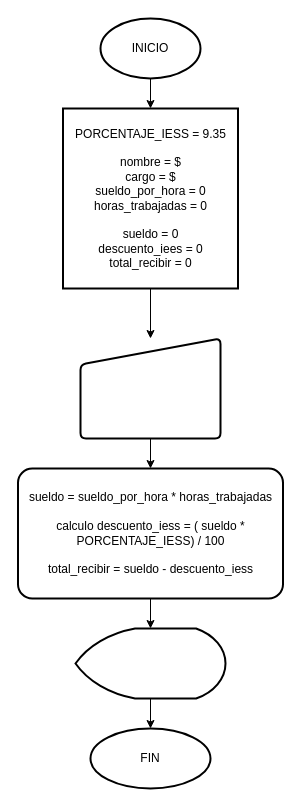
The diagram is 301 pixels wide and 806 high, and some of its shapes have lost their labels. Here are the shapes that lost their labels. From the top down, the centre of each, then its label:
pixel 150 388: nombre cargo sueldo_por_hora horas_trabajadas
pixel 150 663: sueldo descuento_iees total_recibir
